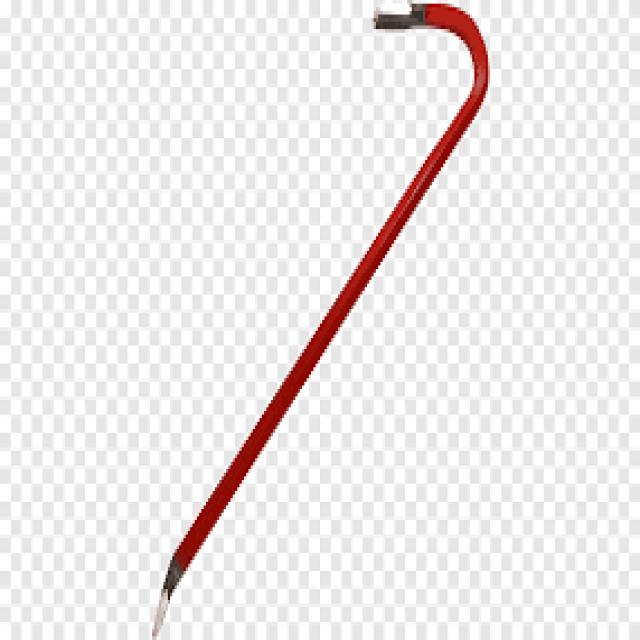Linggis: (134, 0, 494, 640)
